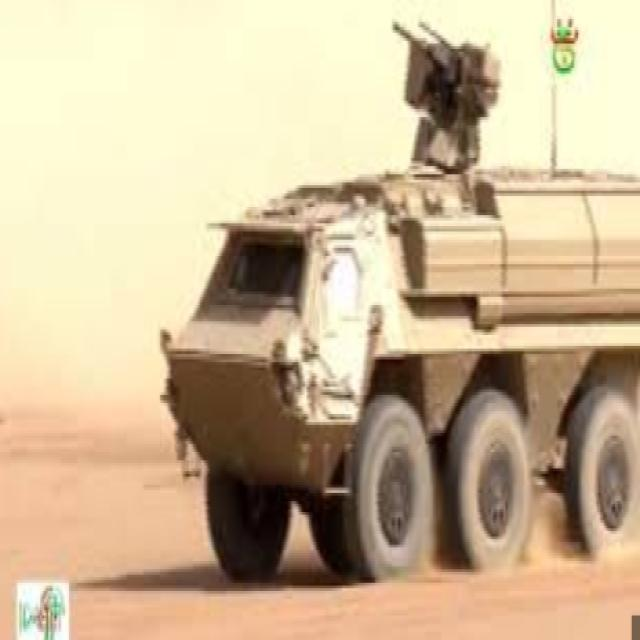MIL_APC: (157, 121, 640, 585)
